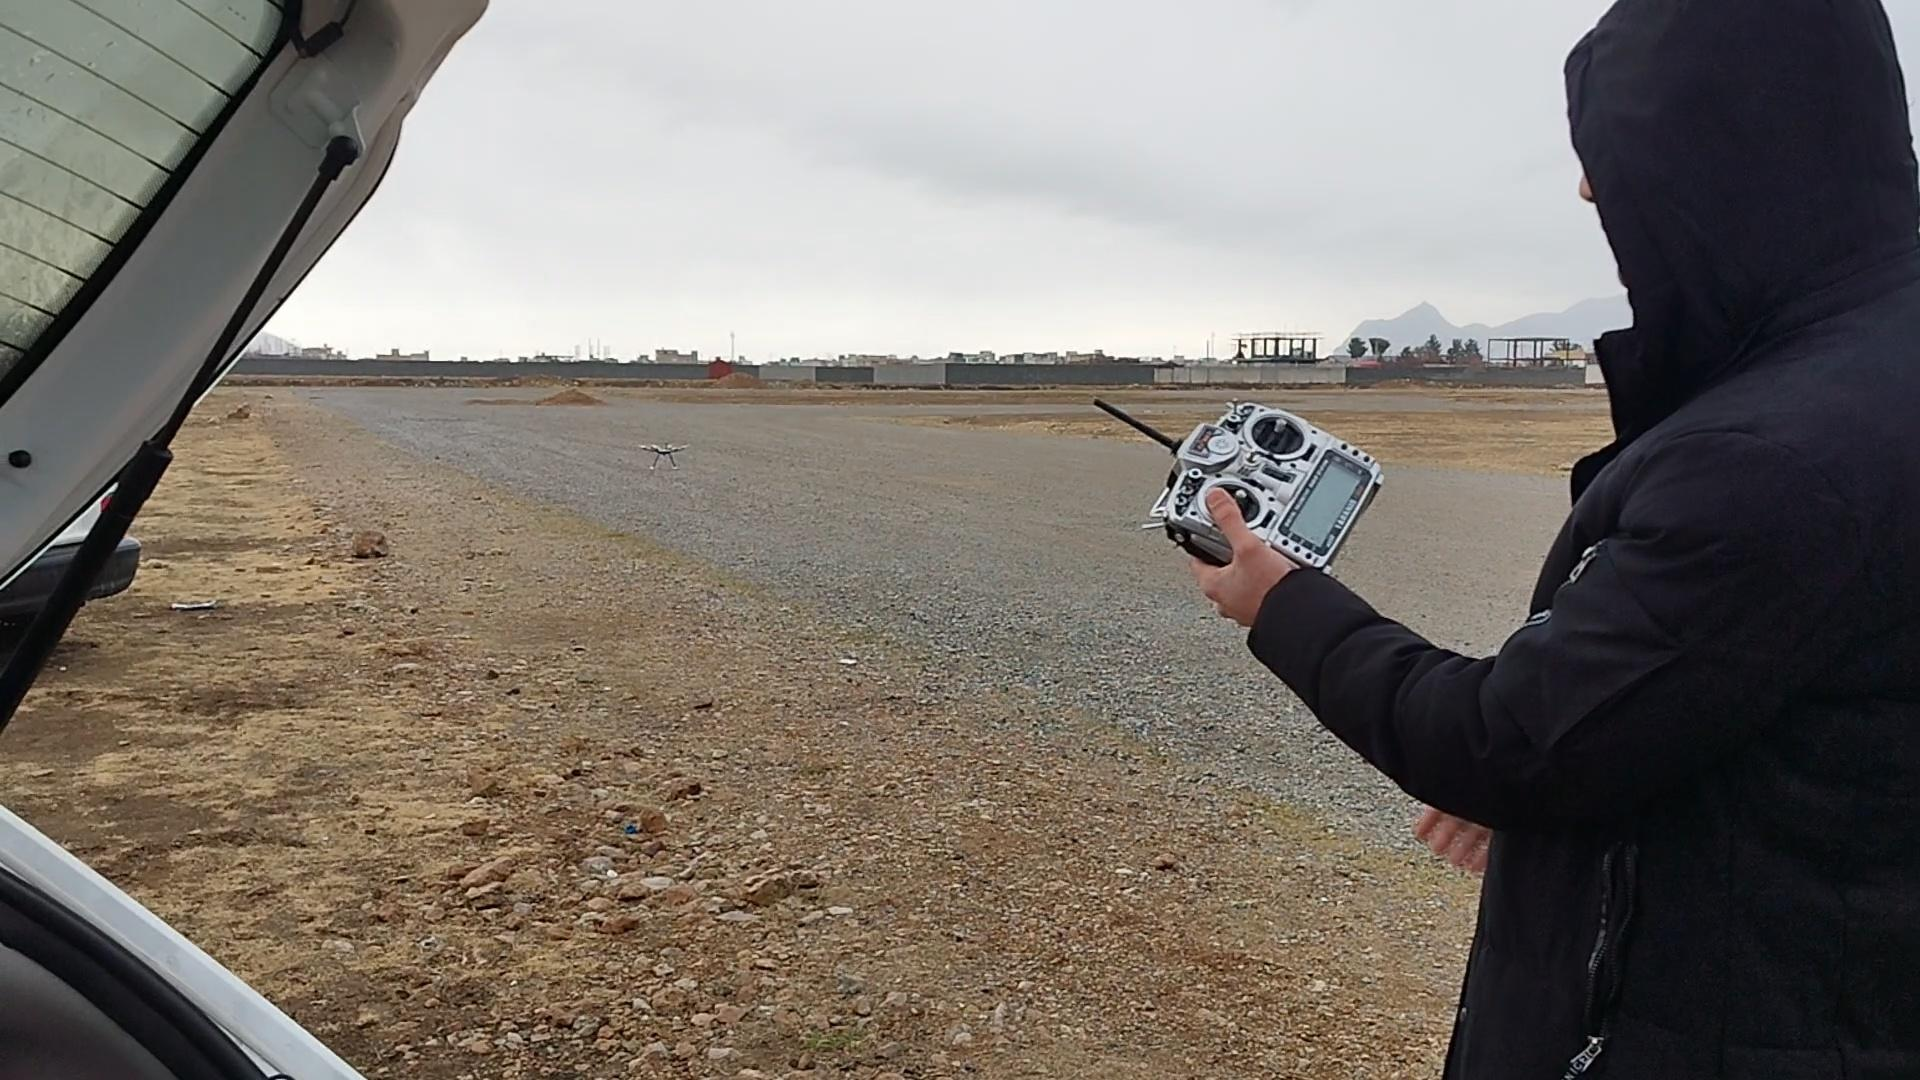drone: (636, 438, 688, 473)
